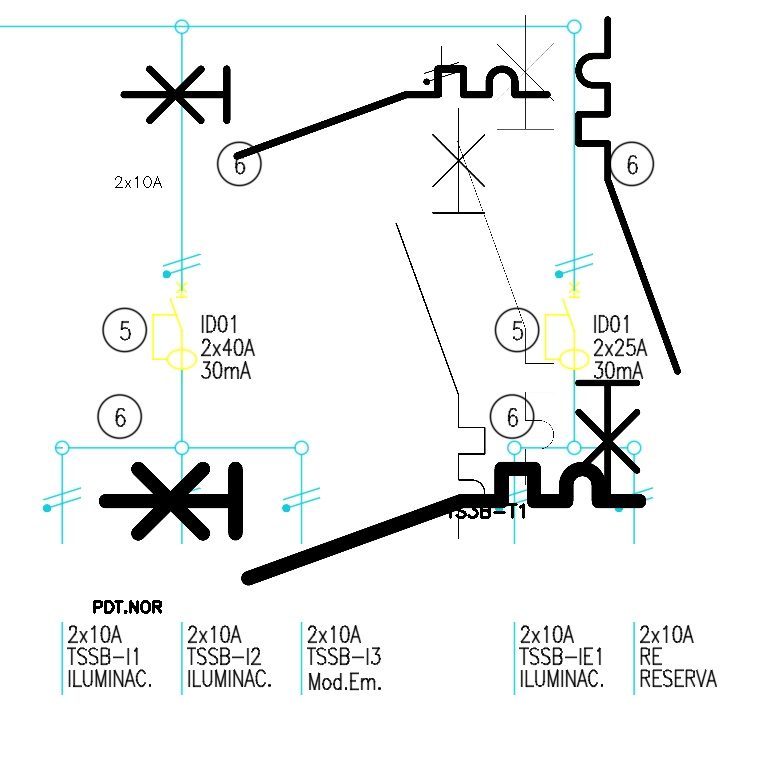interruptor_termomagnetico: (92, 455, 653, 592), (566, 7, 689, 512), (445, 3, 566, 497), (385, 97, 496, 550), (113, 58, 558, 167)
